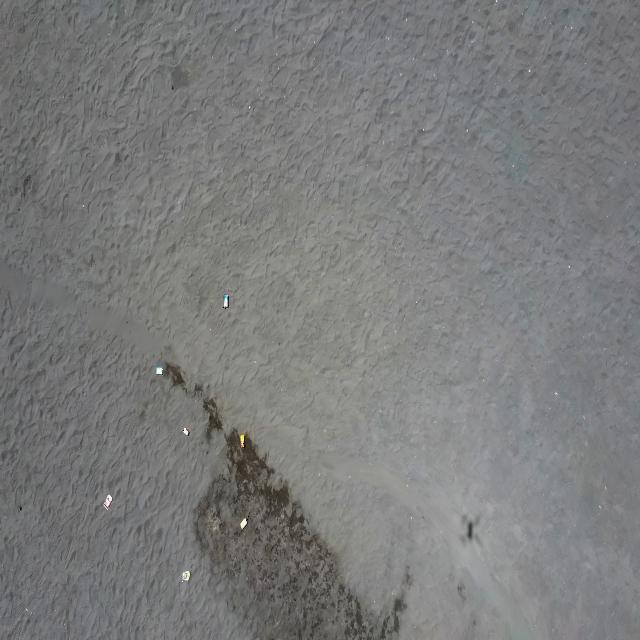Garbage: (103, 495, 111, 508), (181, 569, 190, 580), (223, 292, 228, 307), (155, 364, 163, 373), (240, 517, 246, 528), (181, 427, 188, 435), (240, 432, 243, 447)
